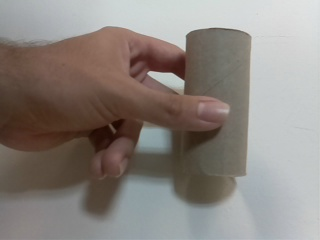rollo papel: (178, 25, 253, 183)
